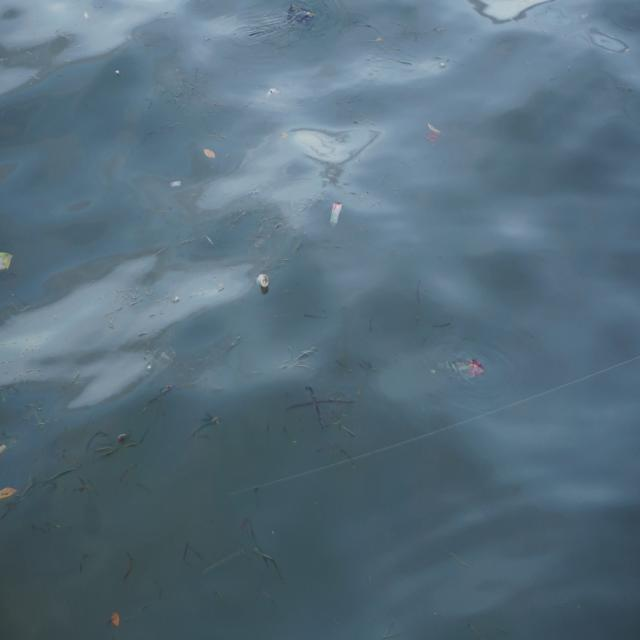Botol Plastik: (255, 270, 273, 295)
Bungkus Makanan: (446, 357, 486, 385), (329, 200, 344, 229)
